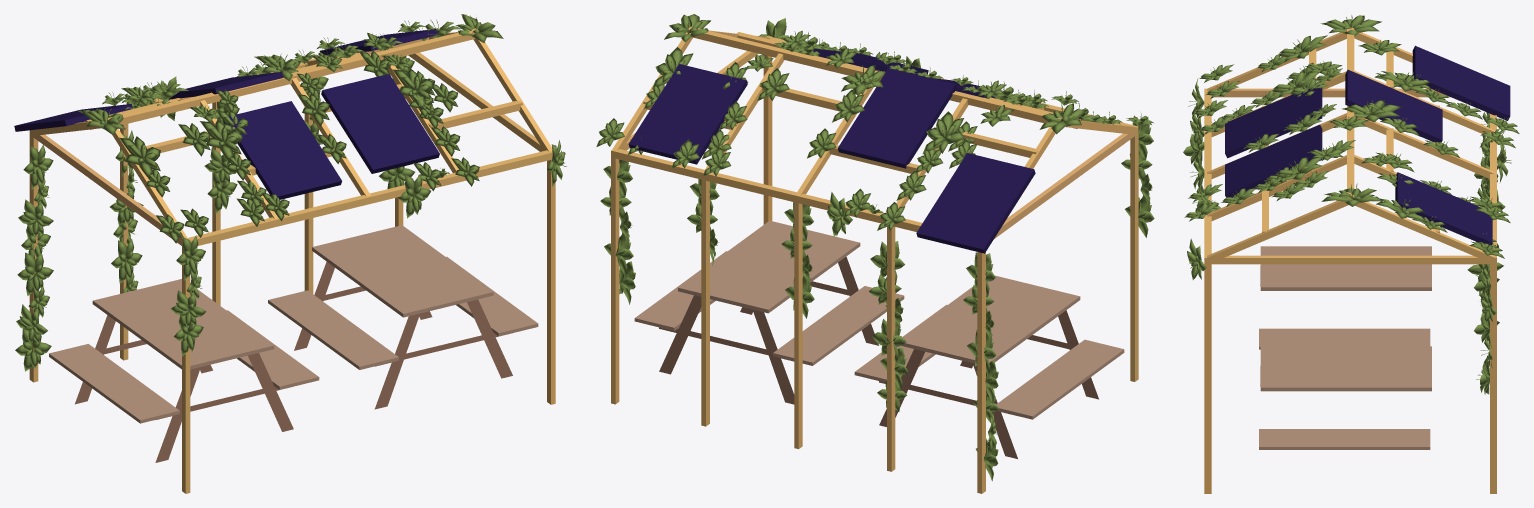
Rendered from PicknickArea.fbx.
3 views of the same model, side by side, from view 1: azimuth 30°, elevation 25°; view 2: azimuth 150°, elevation 25°; view 3: azimuth 270°, elevation 25° (orthographic). The views are drawn at different scales.
Visible parts, largest first — view 1: PicknickArea; view 2: PicknickArea; view 3: PicknickArea.
Boxes of the visible parts, bbox=[...] form: PicknickArea: bbox=[14, 14, 566, 493]; PicknickArea: bbox=[596, 14, 1154, 493]; PicknickArea: bbox=[1183, 15, 1519, 493].
Size of the model in its own units: 312 by 240 by 236.
